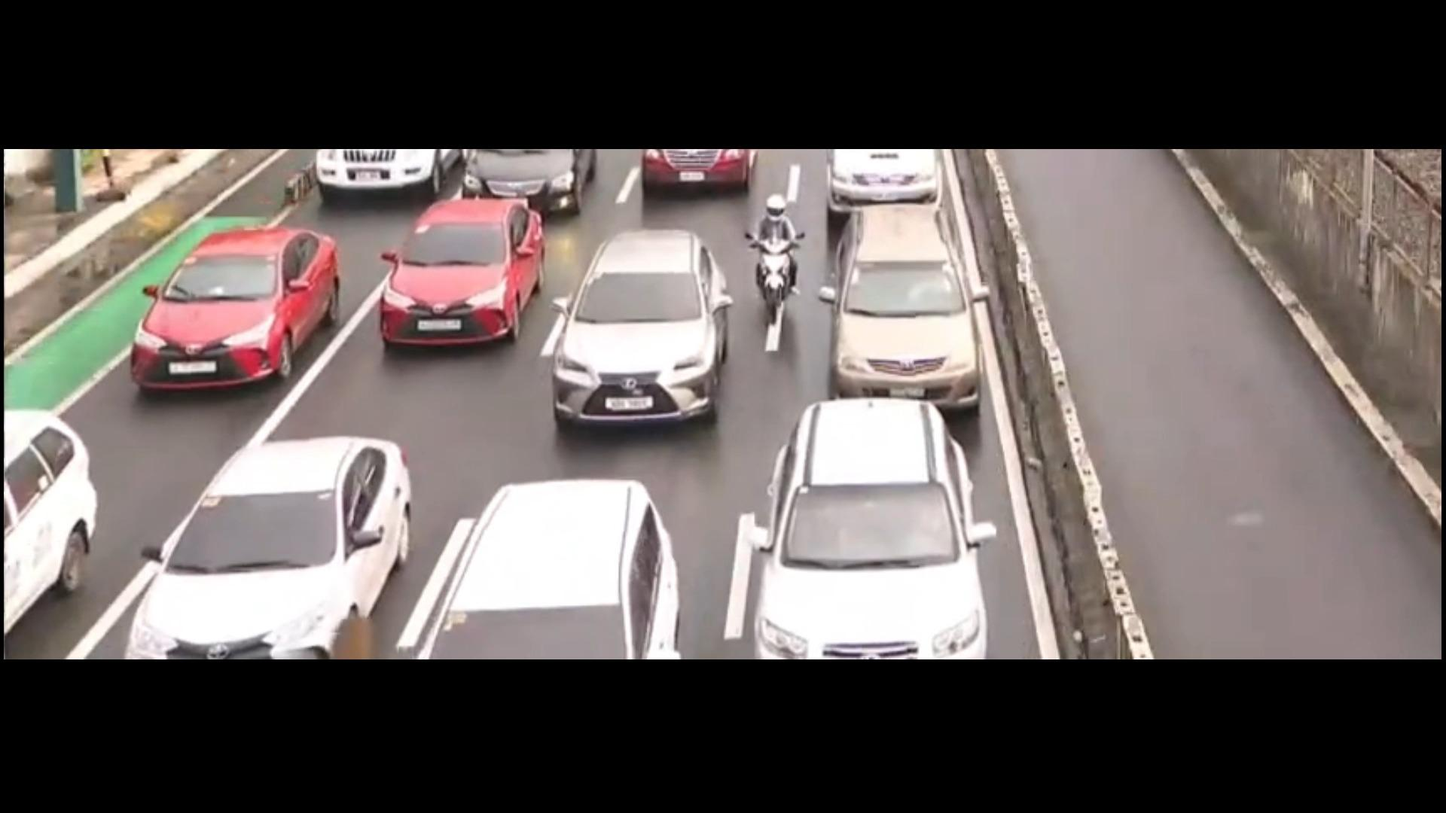Motorcycle: (759, 196, 795, 331)
SUV: (746, 403, 996, 657), (418, 476, 682, 661), (836, 207, 970, 403), (0, 418, 88, 634)
Sedan: (124, 440, 409, 661), (555, 228, 732, 431), (126, 226, 333, 388), (386, 196, 550, 346)
